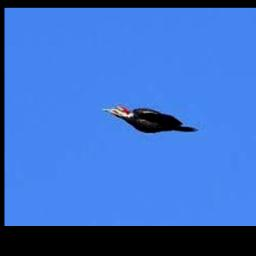Woodpecker: (103, 104, 198, 133)
